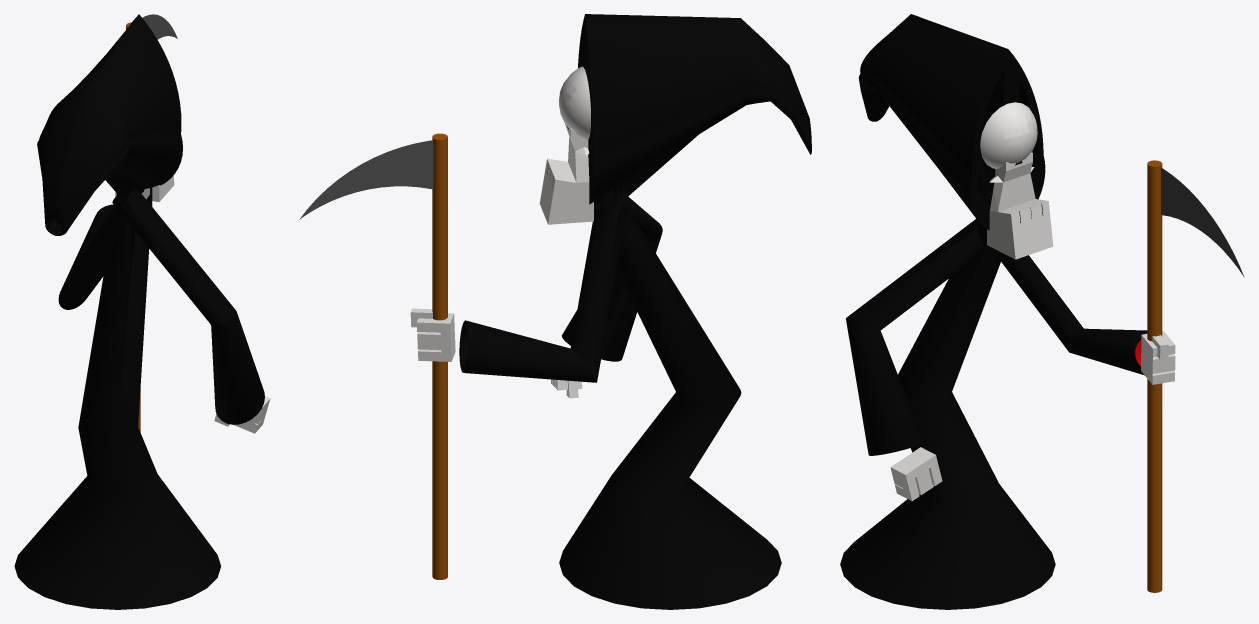
File: huesos.obj
The picture shows the model from 3 angles, left to right: view 1: azimuth 30°, elevation 25°; view 2: azimuth 150°, elevation 25°; view 3: azimuth 270°, elevation 25°; orthographic projection. The views are drawn at different scales.
Visible parts, largest first — view 1: Mesh4 Model, Mesh6 Model, Mesh1 mano1 Model, Mesh3 cabeza1 Model; view 2: Mesh4 Model, Mesh5 Model, Mesh3 cabeza1 Model, Mesh6 Model, Mesh2 mano2 Model; view 3: Mesh4 Model, Mesh3 cabeza1 Model, Mesh5 Model, Mesh6 Model, Mesh1 mano1 Model, Mesh2 mano2 Model.
Part boxes in pixels (bbox=[...]): Mesh4 Model: bbox=[14, 14, 264, 609]; Mesh6 Model: bbox=[142, 14, 177, 39]; Mesh1 mano1 Model: bbox=[214, 396, 270, 433]; Mesh3 cabeza1 Model: bbox=[115, 175, 174, 201]; Mesh4 Model: bbox=[459, 14, 811, 609]; Mesh5 Model: bbox=[432, 133, 447, 579]; Mesh3 cabeza1 Model: bbox=[539, 66, 593, 224]; Mesh6 Model: bbox=[299, 140, 433, 219]; Mesh2 mano2 Model: bbox=[410, 308, 455, 361]; Mesh4 Model: bbox=[840, 14, 1147, 609]; Mesh3 cabeza1 Model: bbox=[980, 102, 1053, 259]; Mesh5 Model: bbox=[1147, 160, 1162, 592]; Mesh6 Model: bbox=[1161, 167, 1244, 277]; Mesh1 mano1 Model: bbox=[890, 447, 942, 501]; Mesh2 mano2 Model: bbox=[1141, 331, 1175, 384].
Bounding box in the file's own units: 11.23 × 18.27 × 12.39.
